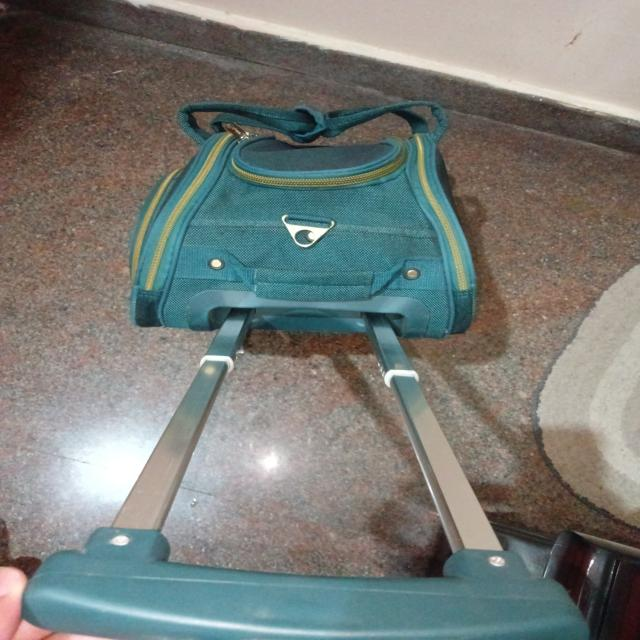suitcaserotation: (11, 96, 597, 637)
